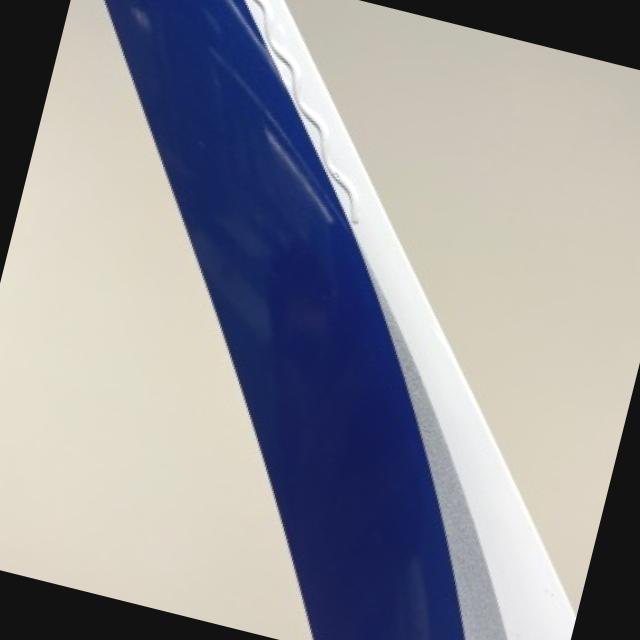healthy: (0, 247, 186, 591)
